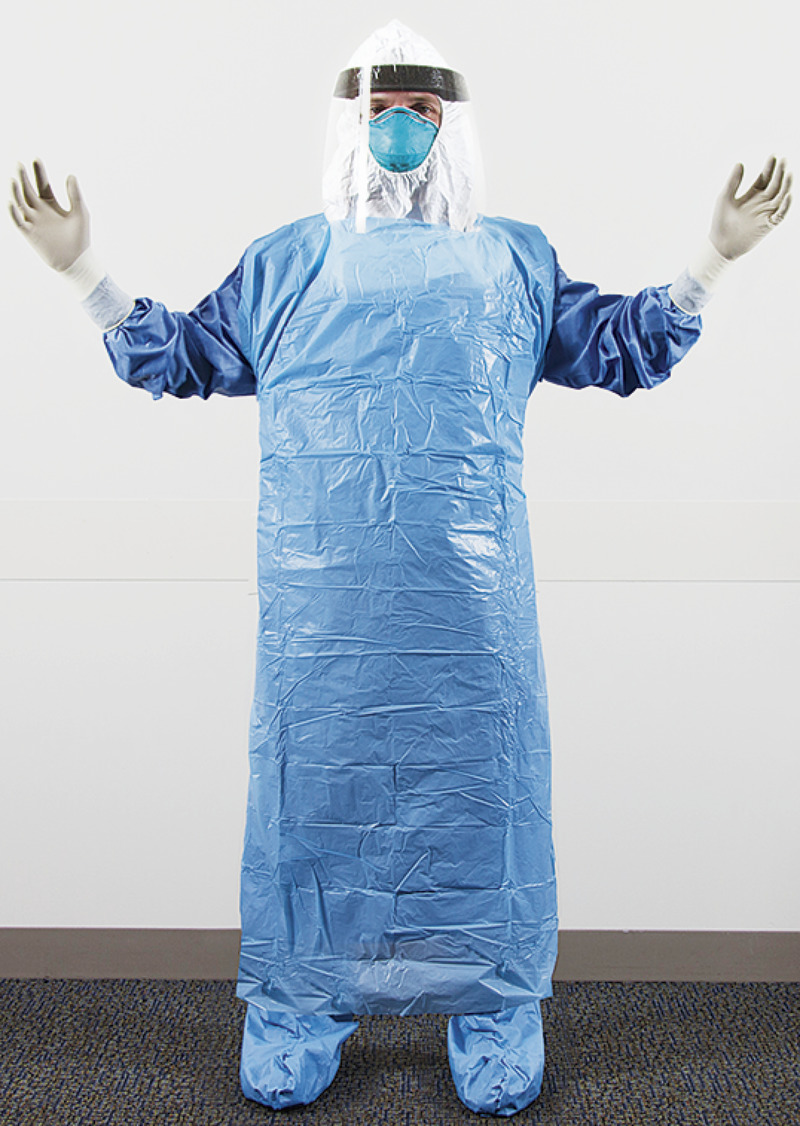Coverall: (214, 218, 580, 1003), (700, 147, 795, 267)
Gloves: (6, 149, 99, 279)
with_mask: (364, 94, 443, 177)
